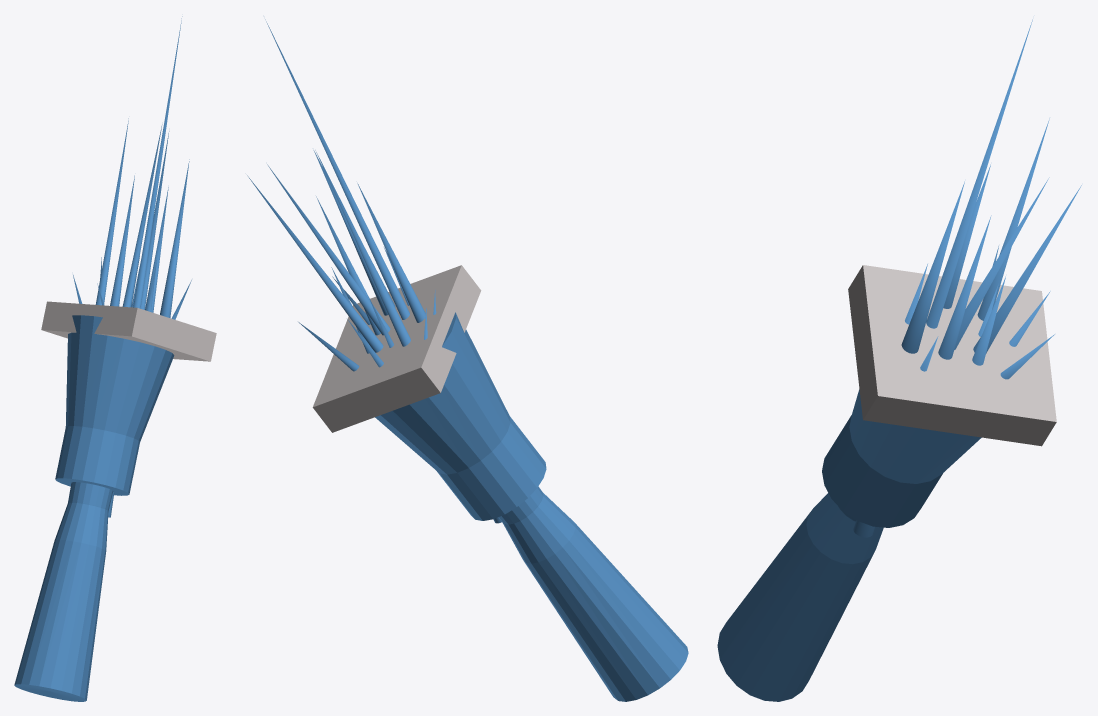
Rendered from Sharpcolumn.fbx.
3 views of the same model, side by side, from view 1: azimuth 30°, elevation 25°; view 2: azimuth 150°, elevation 25°; view 3: azimuth 270°, elevation 25° (orthographic). The views are drawn at different scales.
Visible parts, largest first — view 1: IceColumn, snow, SharpneedleTop4, SharpneedleTop, SharpneedleTop12, SharpneedleTop2, SharpneedleTop3, SharpneedleTop13, SharpneedleTop7; view 2: IceColumn, snow, SharpneedleTop4, SharpneedleTop12, SharpneedleTop2, SharpneedleTop13, SharpneedleTop3, SharpneedleTop; view 3: IceColumn, snow, SharpneedleTop4, SharpneedleTop, SharpneedleTop7, SharpneedleTop12, SharpneedleTop2, SharpneedleTop13, SharpneedleTop3, SharpneedleTop1.
Boxes of the visible parts, x1,y1,x2,y2 form: IceColumn: [14, 315, 174, 701]; snow: [41, 301, 216, 361]; SharpneedleTop4: [108, 16, 182, 517]; SharpneedleTop: [160, 159, 189, 317]; SharpneedleTop12: [122, 124, 162, 307]; SharpneedleTop2: [95, 118, 128, 305]; SharpneedleTop3: [110, 175, 134, 306]; SharpneedleTop13: [140, 131, 169, 309]; SharpneedleTop7: [145, 187, 168, 312]; IceColumn: [375, 312, 688, 701]; snow: [312, 265, 481, 432]; SharpneedleTop4: [265, 19, 501, 523]; SharpneedleTop12: [247, 175, 383, 352]; SharpneedleTop2: [315, 150, 410, 346]; SharpneedleTop13: [267, 164, 390, 335]; SharpneedleTop3: [357, 183, 425, 322]; SharpneedleTop: [313, 150, 395, 315]; IceColumn: [717, 389, 981, 701]; snow: [848, 265, 1056, 446]; SharpneedleTop4: [853, 19, 1032, 537]; SharpneedleTop: [901, 181, 964, 353]; SharpneedleTop7: [938, 215, 991, 359]; SharpneedleTop12: [973, 185, 1081, 353]; SharpneedleTop2: [977, 118, 1049, 320]; SharpneedleTop13: [954, 177, 1049, 349]; SharpneedleTop3: [943, 164, 990, 308]; SharpneedleTop1: [972, 276, 1005, 365].
Size of the model in its own units: 19.58 by 42.11 by 16.85.
